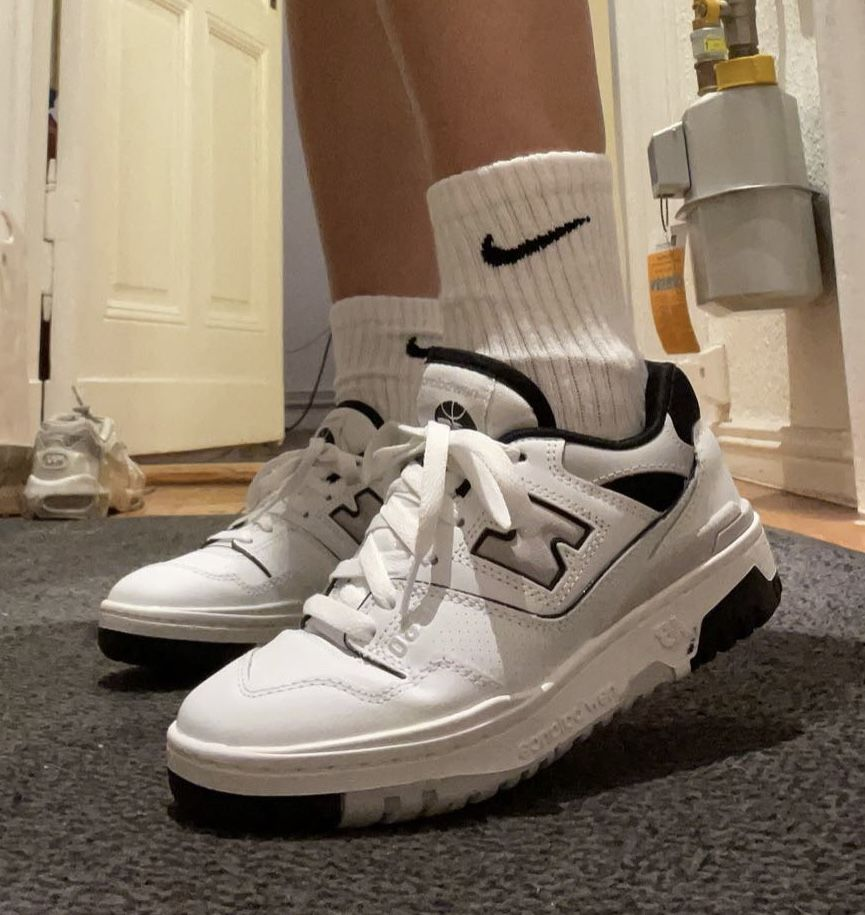new_balance_550_grey: (164, 356, 782, 835)
